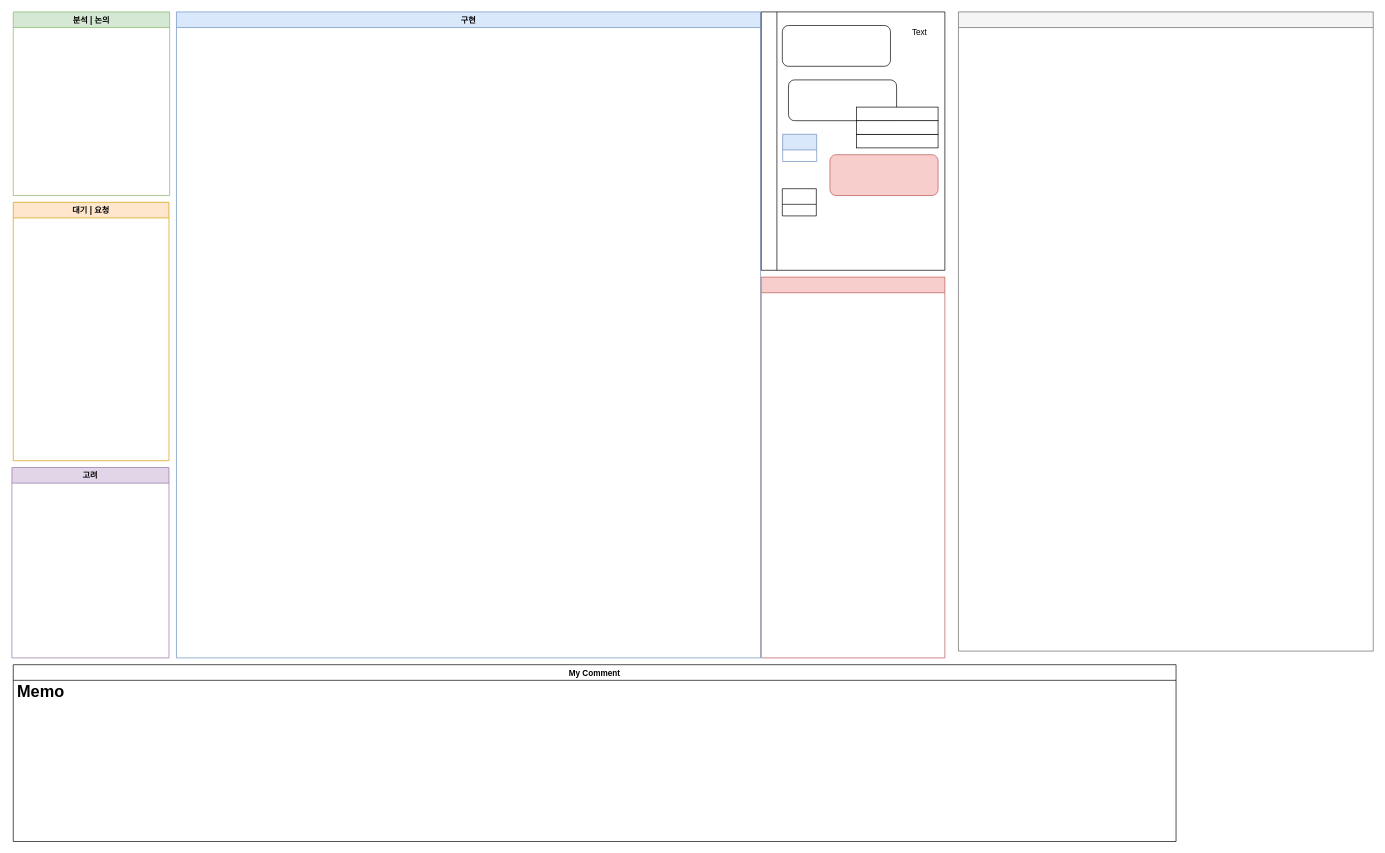
Some shapes in this 1385 by 853 pixel diagram are drawn without their labels. Each missing label, with the box of its shape:
Preset: (761, 11, 945, 270)
에러 | 수정: (761, 276, 945, 658)
폐기 | 완료: (958, 11, 1373, 651)
